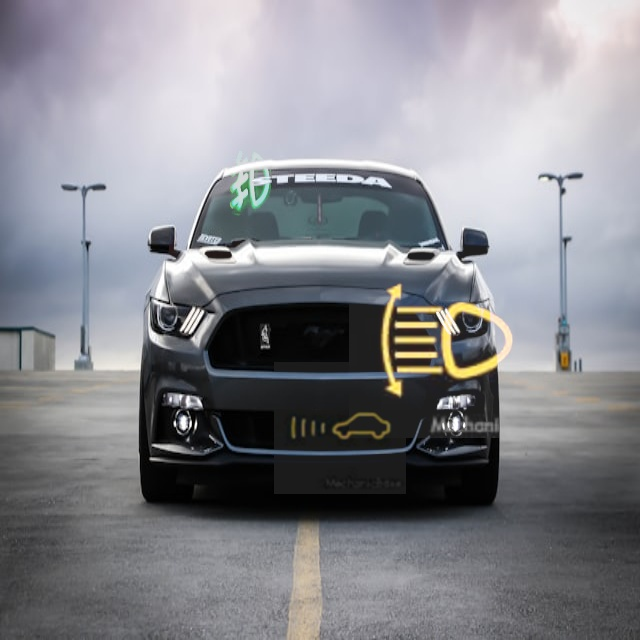symbol: (349, 238, 549, 438), (169, 105, 328, 264), (274, 362, 406, 494)
